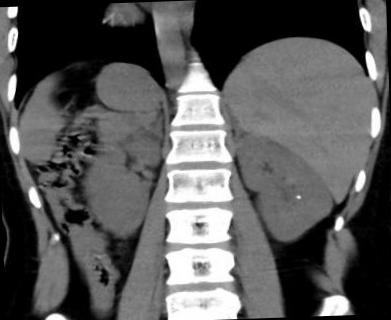Tas_Var: (295, 193, 301, 200)
